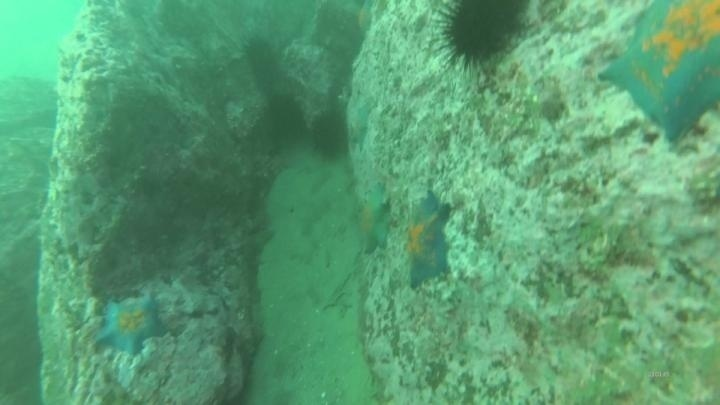echinus: (434, 1, 531, 72), (241, 35, 284, 90), (307, 109, 351, 162), (263, 92, 308, 143)
starfish: (599, 4, 720, 146), (400, 190, 454, 289), (93, 292, 168, 358), (351, 182, 394, 254), (345, 96, 375, 151), (354, 0, 376, 38)
